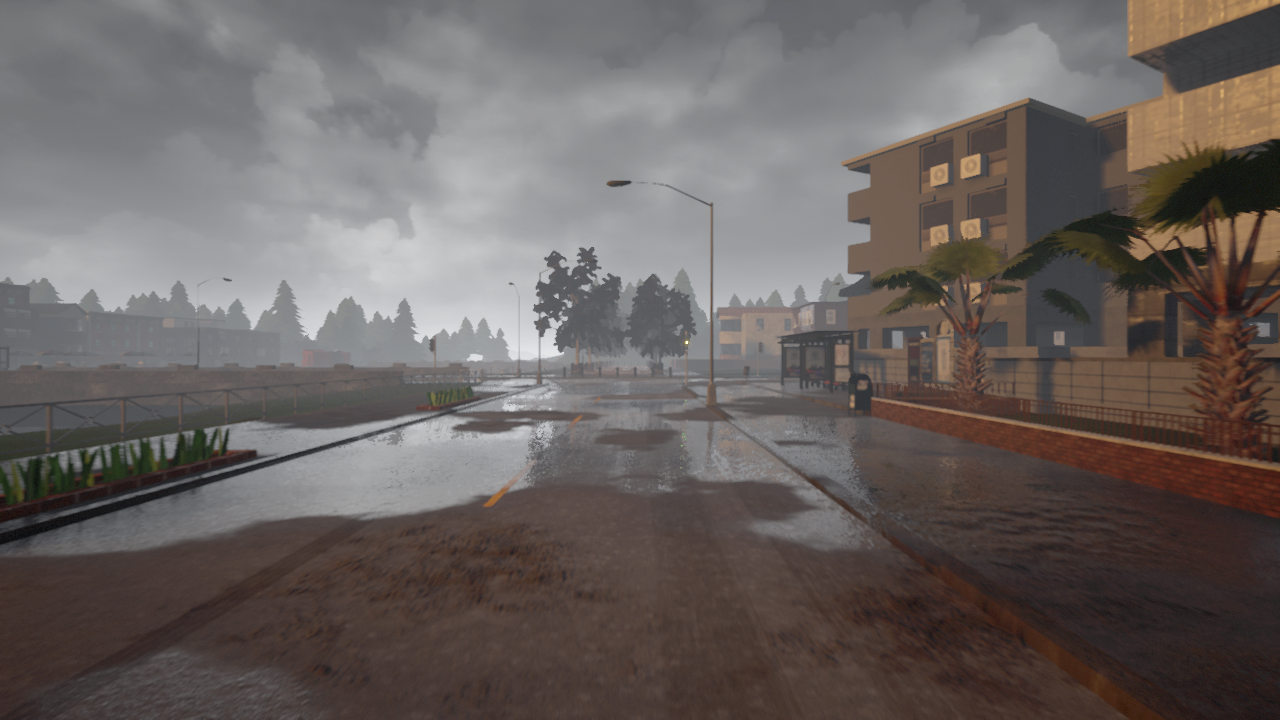yellow: (682, 334, 689, 350)
